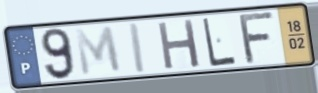9: (40, 27, 76, 82)
F: (238, 10, 278, 67)
H: (155, 17, 202, 72)
I: (127, 21, 149, 76)
L: (200, 16, 238, 69)
M: (72, 24, 124, 78)
